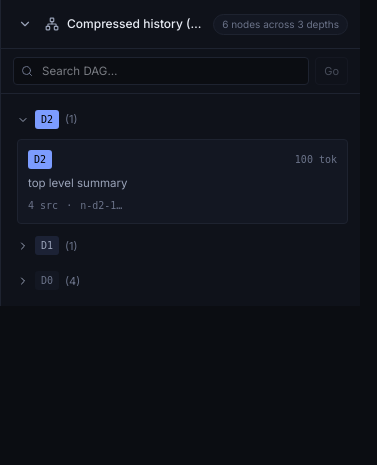
Scenario: <DagPanel /> › search submits correctly and shows results
Type "hello" into the field with test id "dag-search-input".
click(161, 71); type("hello")  # box [13,57,309,85]
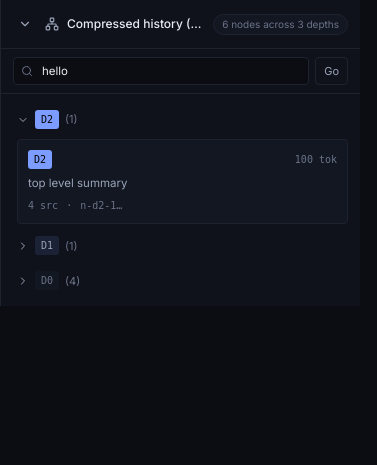
Click the button with test id "dag-search-submit".
click(332, 71)  # box [315,57,348,85]
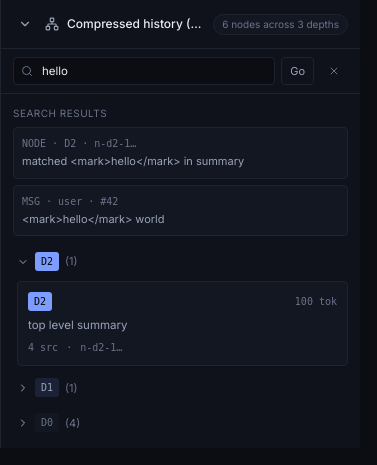
Expected: the element with test id "dag-search-results" is shown, [13,106,348,236]
Expected: the element with test id "dag-search-hit-n-d2-1" is shown, [13,127,348,178]
Expected: the element with test id "dag-search-hit-42" is shown, [13,184,348,236]
